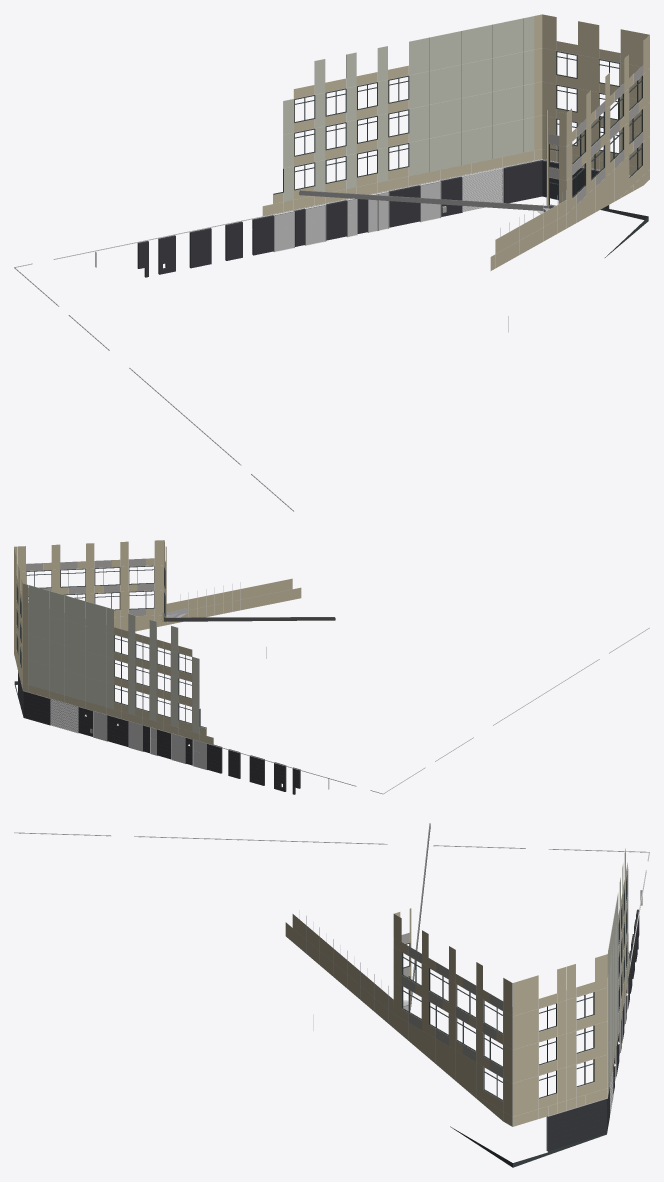
3 renders of one model, top to bottom at view 1: azimuth 30°, elevation 25°; view 2: azimuth 150°, elevation 25°; view 3: azimuth 270°, elevation 25°, orthographic. The views are drawn at different scales.
Visible parts, largest first — view 1: 4, 6, 8, 2, 1, 12, 5, 13, 0, 7; view 2: 4, 6, 8, 2, 1, 0, 5, 12, 13, 7; view 3: 4, 0, 2, 8, 6, 5, 1.
Boxes of the visible parts, x1,y1,x2,y2 form: 4: (262,14,649,270); 6: (283,16,534,201); 8: (137,160,608,277); 2: (273,51,648,257); 1: (14,159,600,511); 12: (275,200,356,249); 5: (548,65,643,203); 13: (299,190,554,210); 0: (263,41,649,268); 7: (462,168,502,211); 4: (14,540,301,745); 6: (28,585,199,733); 8: (18,672,300,794); 2: (14,565,206,728); 1: (18,608,649,794); 0: (17,558,291,740); 5: (26,558,165,616); 12: (151,728,206,768); 13: (163,612,335,621); 7: (50,699,78,732); 4: (285,862,629,1152); 0: (293,867,629,1126); 2: (402,875,628,1167); 8: (546,909,639,1151); 6: (608,848,628,1081); 5: (401,932,502,1077); 1: (14,832,649,1116).
Bounding box in the file's own units: 75.47 × 22.12 × 68.84.
